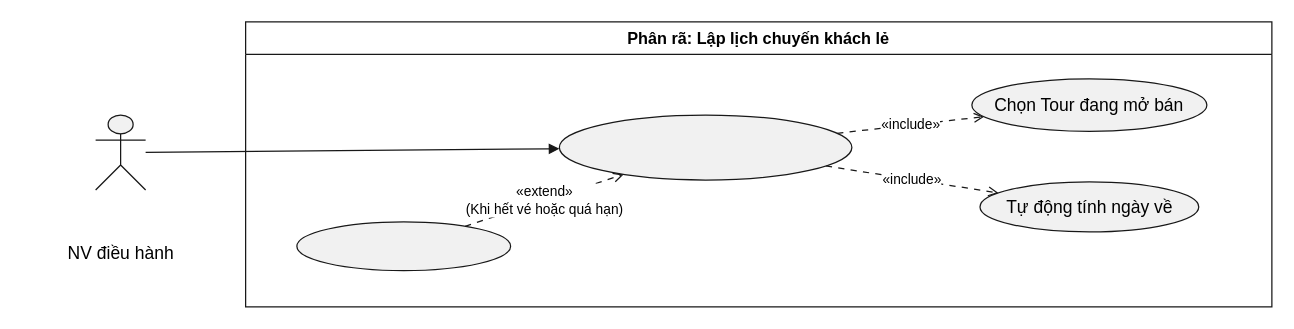
Some shapes in this 1294 by 329 pixel diagram are drawn without their labels. Each missing label, with the centre of its shape:
Lập lịch chuyến (Tạo chuyến): [705,147]
Đóng đăng ký chuyến: [403,246]
